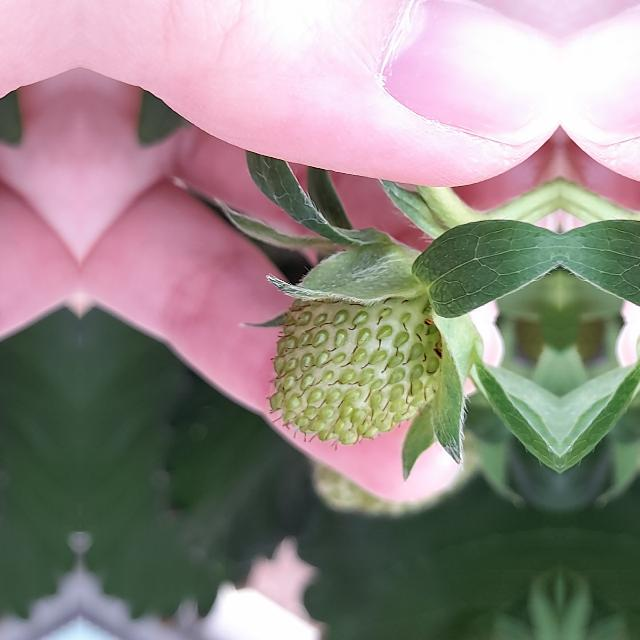Health_25: (266, 246, 468, 449)
